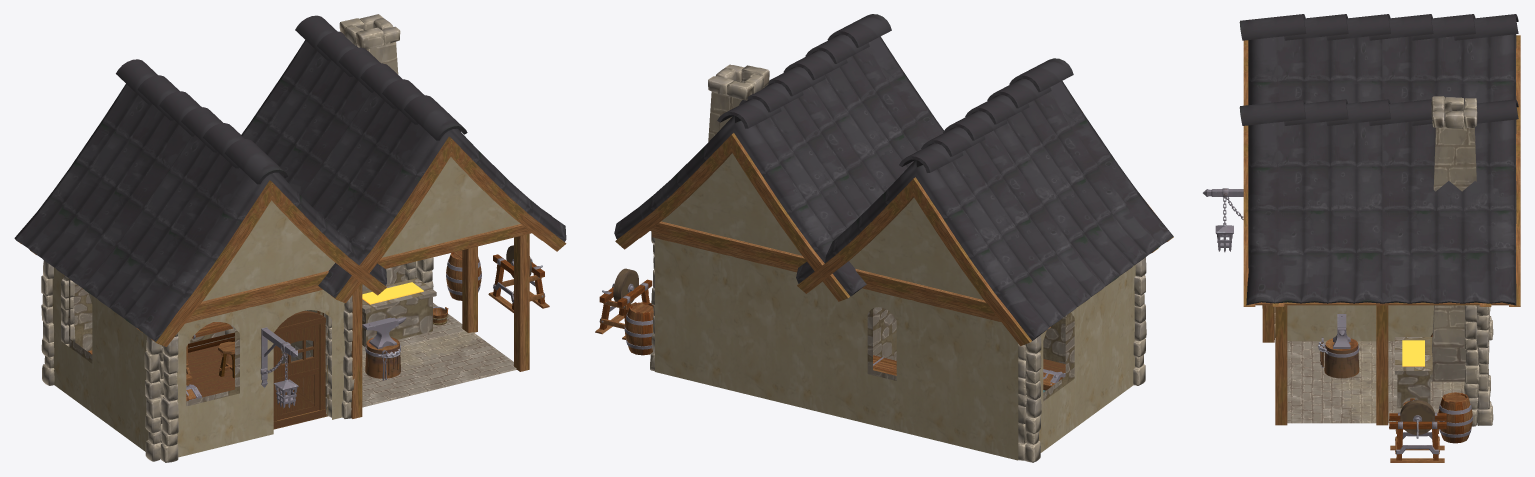
The model's file is Forge.glb.
The picture shows the model from 3 angles, left to right: view 1: azimuth 30°, elevation 25°; view 2: azimuth 150°, elevation 25°; view 3: azimuth 270°, elevation 25°; orthographic projection. The views are drawn at different scales.
Parts seen in each view (by area): view 1: Roof_RoundTiles_4x4.002, Roof_RoundTiles_4x4.003, Wall_UnevenBrick_Window_Wide_Round, Roof_Front_Brick4.006, Roof_Front_Brick4.004, Wall_UnevenBrick_Straight.042, Wall_UnevenBrick_Door_Round.004, Door_1_Round.005, Floor_Brick.036, Wall_UnevenBrick_Window_Wide_Round.035, Corner_Exterior_Brick.059, Corner_Exterior_Brick.061 (+18 smaller); view 2: Roof_RoundTiles_4x4.002, Roof_RoundTiles_4x4.003, Wall_UnevenBrick_Straight.045, Wall_UnevenBrick_Straight.041, Wall_UnevenBrick_Straight.044, Wall_UnevenBrick_Window_Thin_Round, Roof_Front_Brick4.007, Roof_Front_Brick4.005, Wall_UnevenBrick_Straight.042, Wall_UnevenBrick_Window_Wide_Round.035, Corner_Exterior_Brick.061, ForgeChimneyTop (+5 smaller); view 3: Roof_RoundTiles_4x4.003, Roof_RoundTiles_4x4.002, Floor_Brick.036, ForgeChimneyTop, Wall_UnevenBrick_Window_Thin_Round.039, Corner_Exterior_Brick.063, ForgeChimney, Whetstone, Floor_Brick, Anvil_Log, Corner_Exterior_Wood.009, Corner_Exterior_Wood (+8 smaller).
Part boxes in pixels (x1,y1,x2,y2): Roof_RoundTiles_4x4.002: (14,59,386,346); Roof_RoundTiles_4x4.003: (241,15,566,303); Wall_UnevenBrick_Window_Wide_Round: (177,299,260,457); Roof_Front_Brick4.006: (377,157,531,268); Roof_Front_Brick4.004: (191,200,334,316); Wall_UnevenBrick_Straight.042: (102,303,148,451); Wall_UnevenBrick_Door_Round.004: (258,285,345,437); Door_1_Round.005: (273,311,325,428); Floor_Brick.036: (400,331,516,390); Wall_UnevenBrick_Window_Wide_Round.035: (52,267,102,420); Corner_Exterior_Brick.059: (144,333,178,462); Corner_Exterior_Brick.061: (41,260,75,385); Roof_RoundTiles_4x4.002: (796,58,1173,345); Roof_RoundTiles_4x4.003: (614,14,943,301); Wall_UnevenBrick_Straight.045: (652,231,745,393); Wall_UnevenBrick_Straight.041: (924,298,1018,460); Wall_UnevenBrick_Straight.044: (743,253,836,416); Wall_UnevenBrick_Window_Thin_Round: (836,284,927,438); Roof_Front_Brick4.007: (649,153,806,266); Roof_Front_Brick4.005: (849,197,995,315); Wall_UnevenBrick_Straight.042: (1085,265,1135,420); Wall_UnevenBrick_Window_Wide_Round.035: (1039,302,1085,452); Corner_Exterior_Brick.061: (1018,335,1041,462); ForgeChimneyTop: (708,64,769,141); Roof_RoundTiles_4x4.003: (1239,99,1520,306); Roof_RoundTiles_4x4.002: (1239,14,1520,120); Floor_Brick.036: (1287,379,1376,423); ForgeChimneyTop: (1431,96,1477,191); Wall_UnevenBrick_Window_Thin_Round.039: (1287,305,1376,341); Corner_Exterior_Brick.063: (1464,305,1493,426); ForgeChimney: (1430,305,1478,381); Whetstone: (1389,399,1446,462); Floor_Brick: (1287,341,1376,379); Anvil_Log: (1318,314,1359,378); Corner_Exterior_Wood.009: (1376,305,1388,425); Corner_Exterior_Wood: (1275,305,1287,425).
Size of the model in its own units: 10.78 by 6.32 by 6.3.
51 materials, 49 textured.
